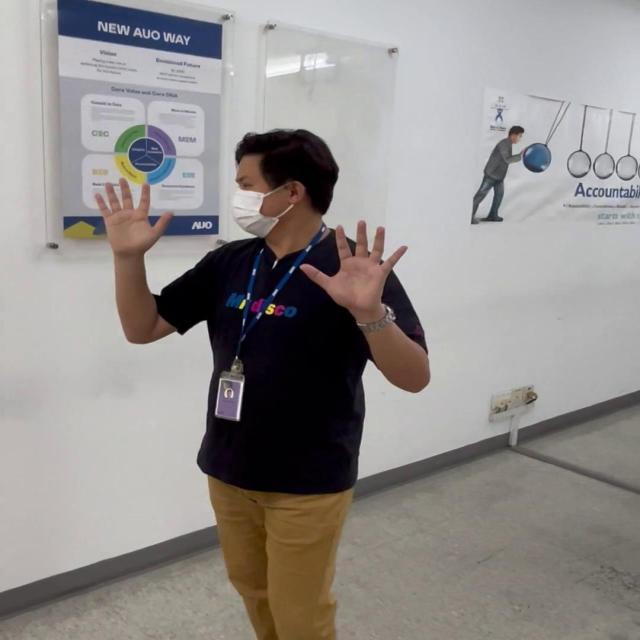bare_hand: (300, 216, 409, 310), (91, 174, 173, 251)
